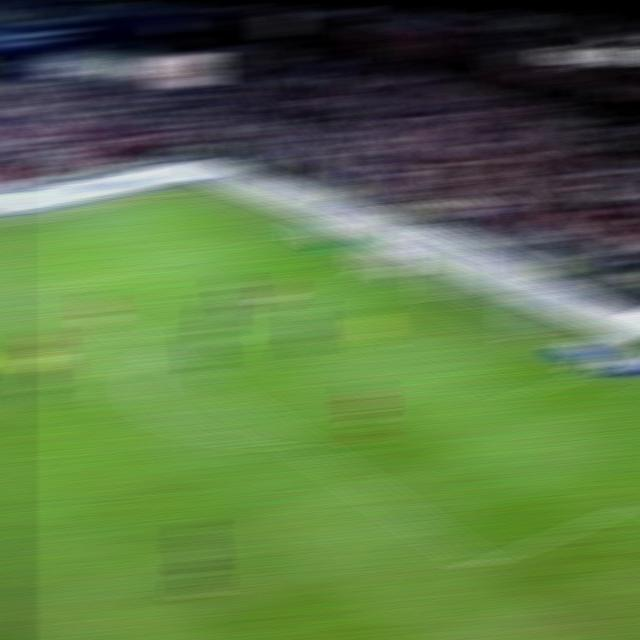bigarea_bottom_inner: (461, 547, 501, 578)
bigarea_top_inner: (44, 276, 78, 297)
bigarea_top_outter: (268, 226, 304, 243)
bottom_arc_area_intersection: (286, 433, 322, 457)
corner: (170, 183, 205, 196)
smallarea_bottom_inner: (490, 384, 527, 409)
smallarea_bottom_outter: (573, 362, 609, 379)
smallarea_top_inner: (295, 287, 328, 305)
smallarea_top_outter: (361, 267, 398, 286)
top_arc_area_intersection: (139, 338, 178, 363)
